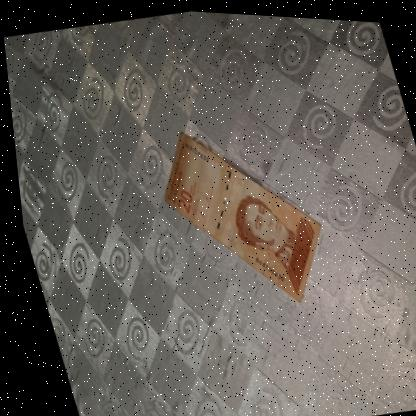twenty-front-vef: (138, 104, 338, 322)
